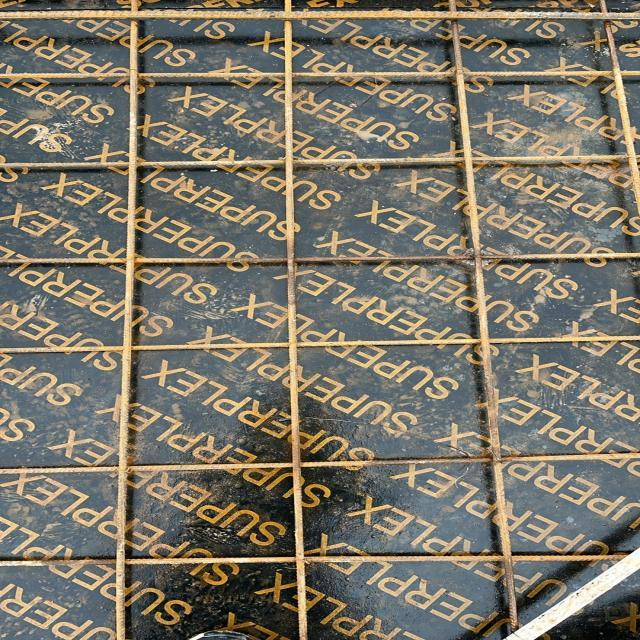ribbed bar: (446, 0, 522, 639), (113, 0, 141, 639), (280, 0, 308, 639), (0, 452, 639, 475), (0, 333, 639, 355), (0, 154, 639, 170), (0, 552, 639, 567), (597, 0, 638, 220), (0, 251, 639, 265), (0, 10, 639, 20), (0, 69, 639, 77)
